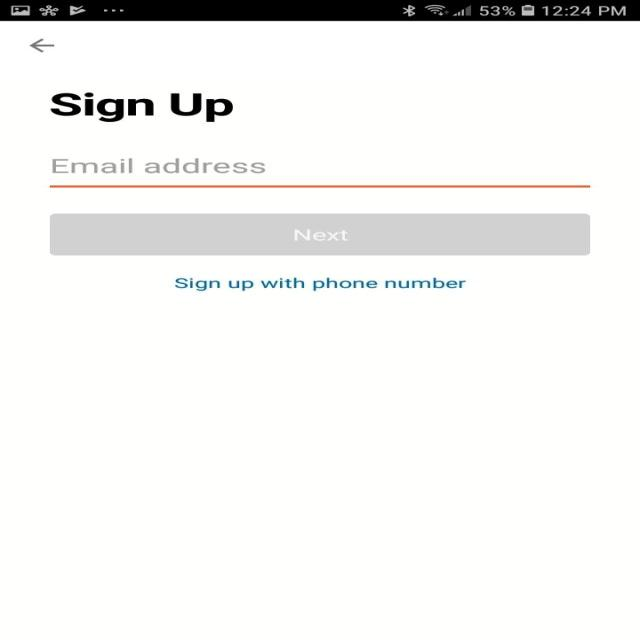EditText: (48, 157, 590, 188)
Icon: (29, 39, 54, 53)
Text: (50, 92, 233, 122), (174, 277, 466, 291), (51, 158, 265, 173)
TextButton: (48, 213, 590, 255)
